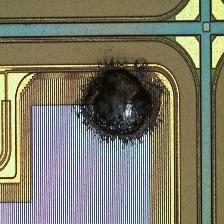PO CONTAMINATION: (71, 55, 171, 153)
